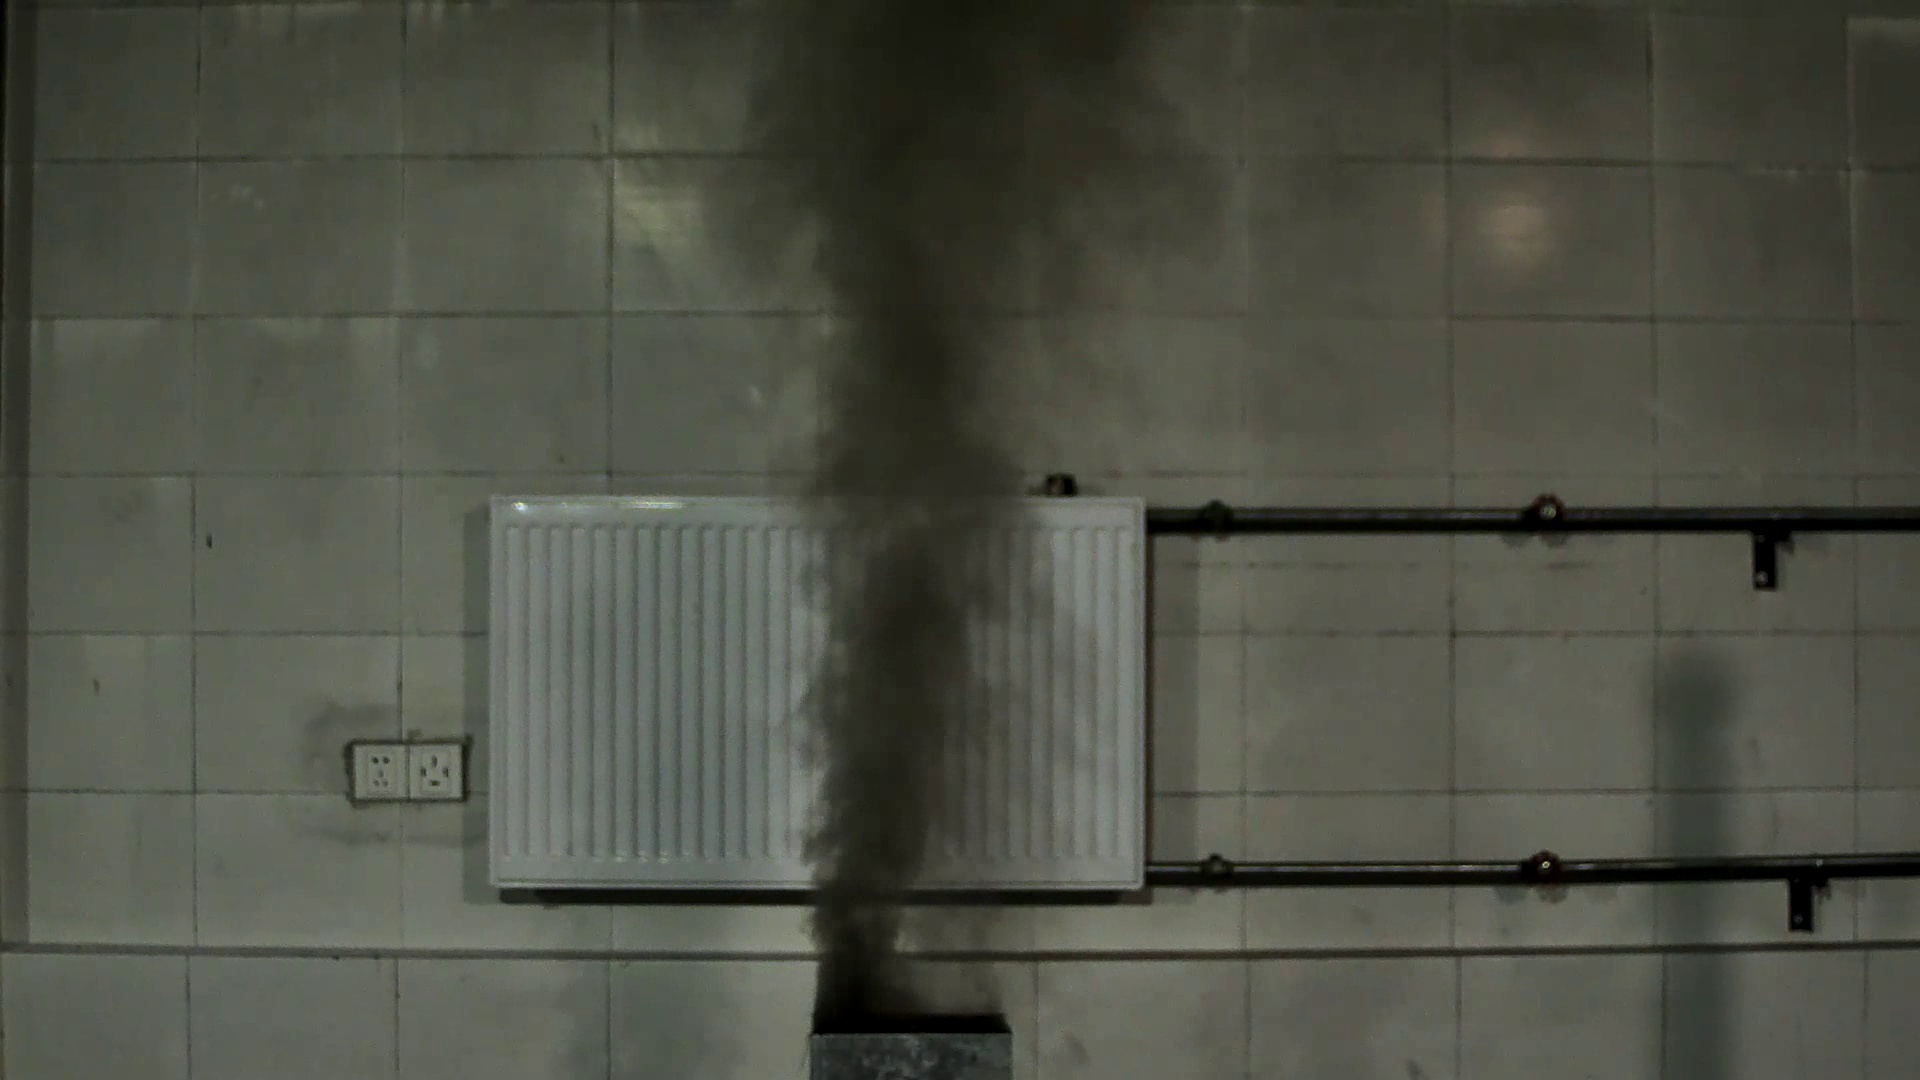smoke: (692, 36, 1265, 1011)
